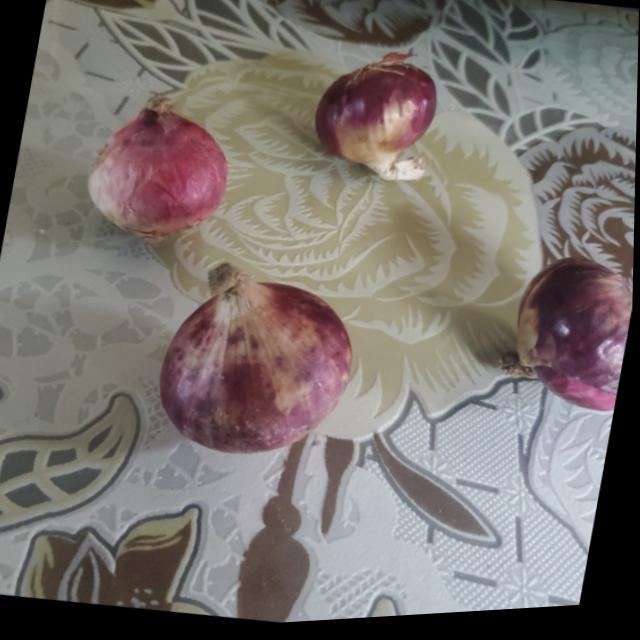onion: (152, 275, 366, 479), (79, 99, 237, 255), (503, 252, 635, 426), (310, 57, 445, 189)
